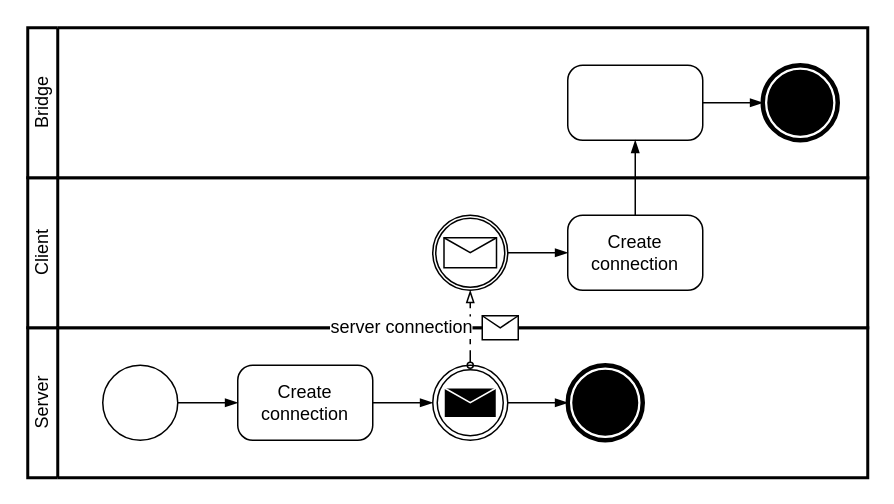
This 894x504 diagram has some shape labels left out. The centre of each missing label's shape, as x and y in pixels:
Bridge connections: the point at 634,102
Request received: the point at 139,402
